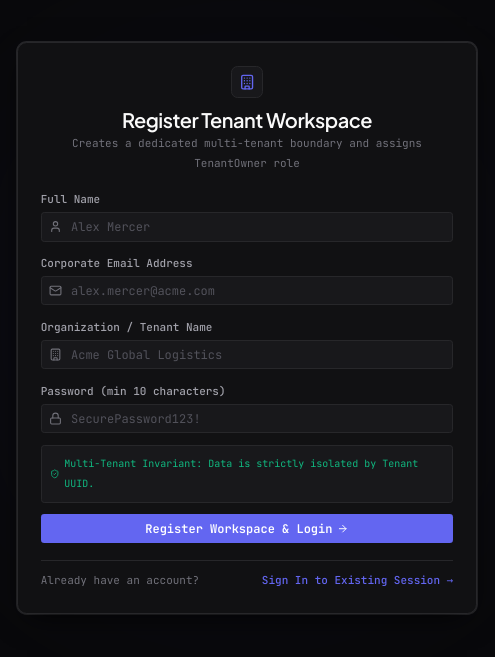
Scenario: Milestone M2: Authentication Architecture & UI Flows › validates password length requirement (>= 10 chars per FR-001) during registration
Step 1. Type "Test Engineer" into the field labelled "Full Name" → (247, 227), box [41,212,453,242]
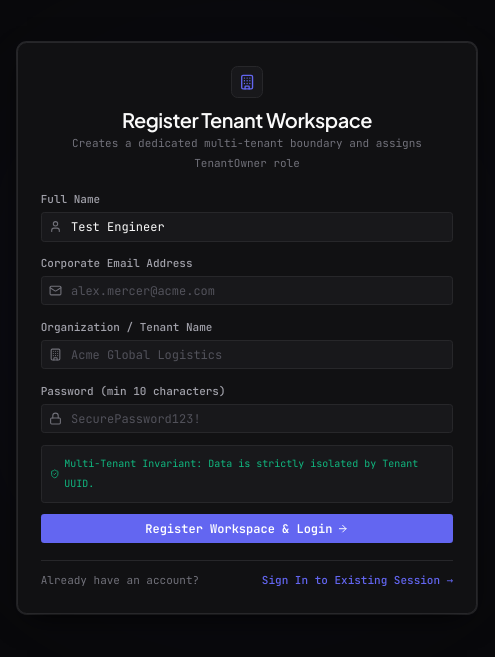
Step 2. Type "test@acme.com" into the field labelled "Corporate Email Address" → (247, 291), box [41,276,453,305]
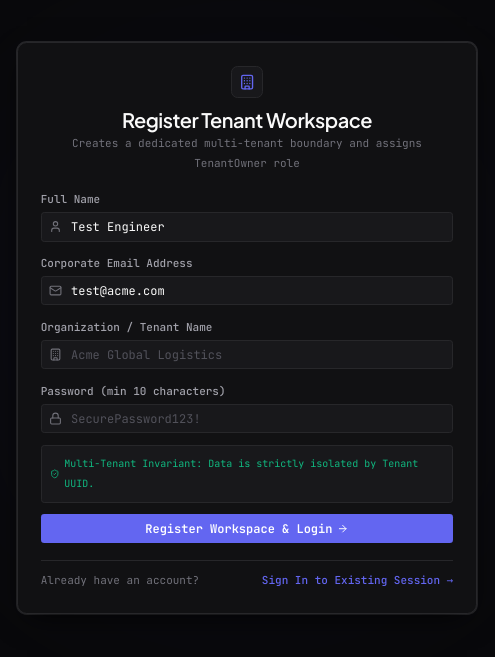
Step 3. Type "Acme Test Corp" into the field labelled "Organization / Tenant Name" → (247, 355), box [41,340,453,369]
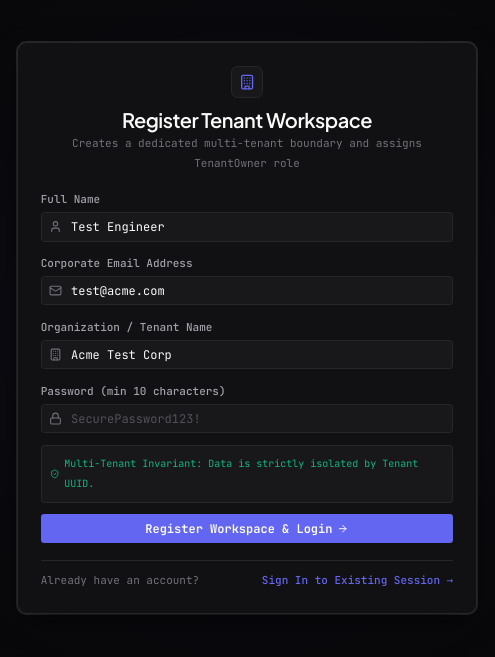
Step 4. Type "short" into the password field labelled "Password (min 10 characters)" → (247, 419), box [41,404,453,433]
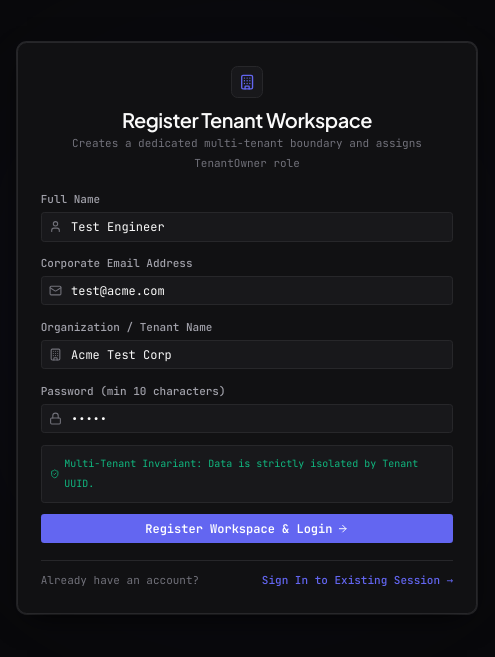
Step 5. Click the button "Register Workspace & Login" → (247, 529), box [41,514,453,543]
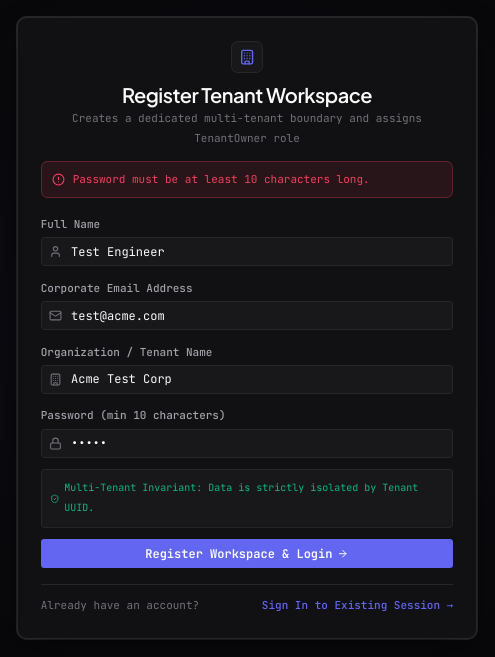
Check: the text "Password must be at least 10 characters long." is shown, box [73,172,370,187]
